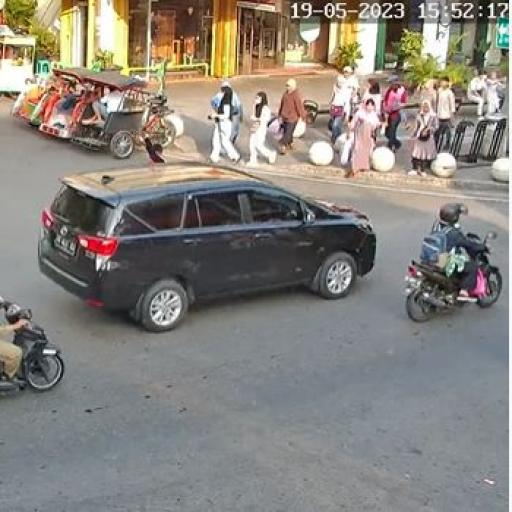mobil: (36, 156, 379, 330)
motor: (402, 220, 504, 327)
